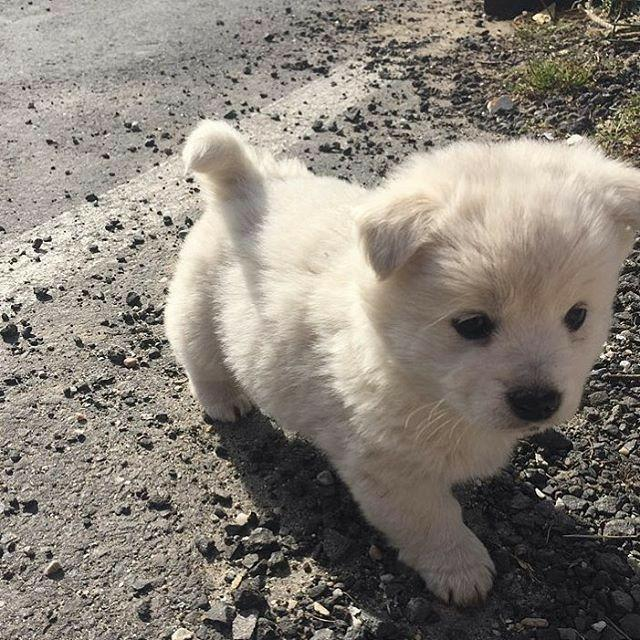puppy-dog: (162, 116, 640, 611)
